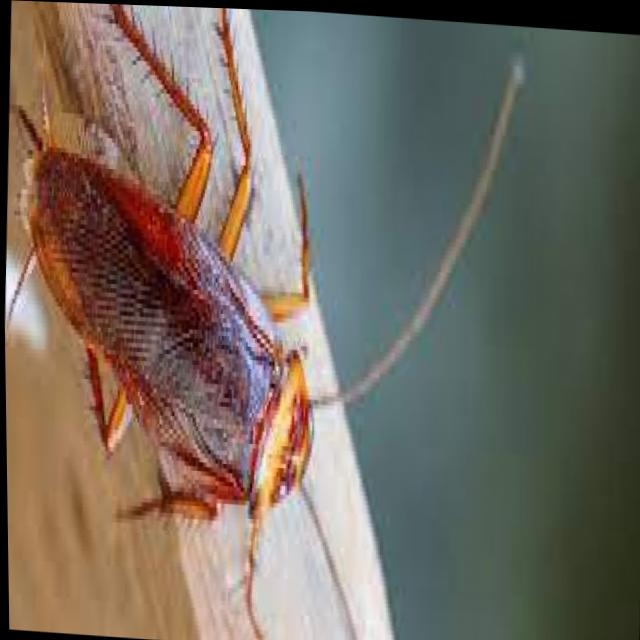Cockroach: (0, 0, 538, 640)
